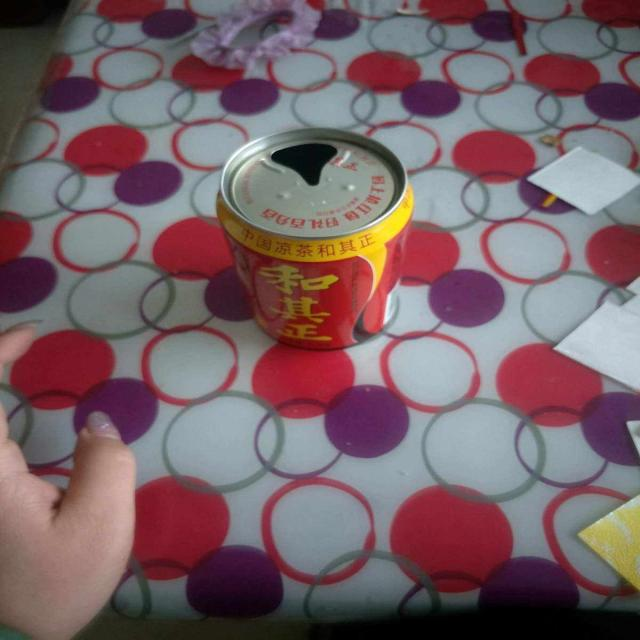can: (210, 125, 412, 352)
